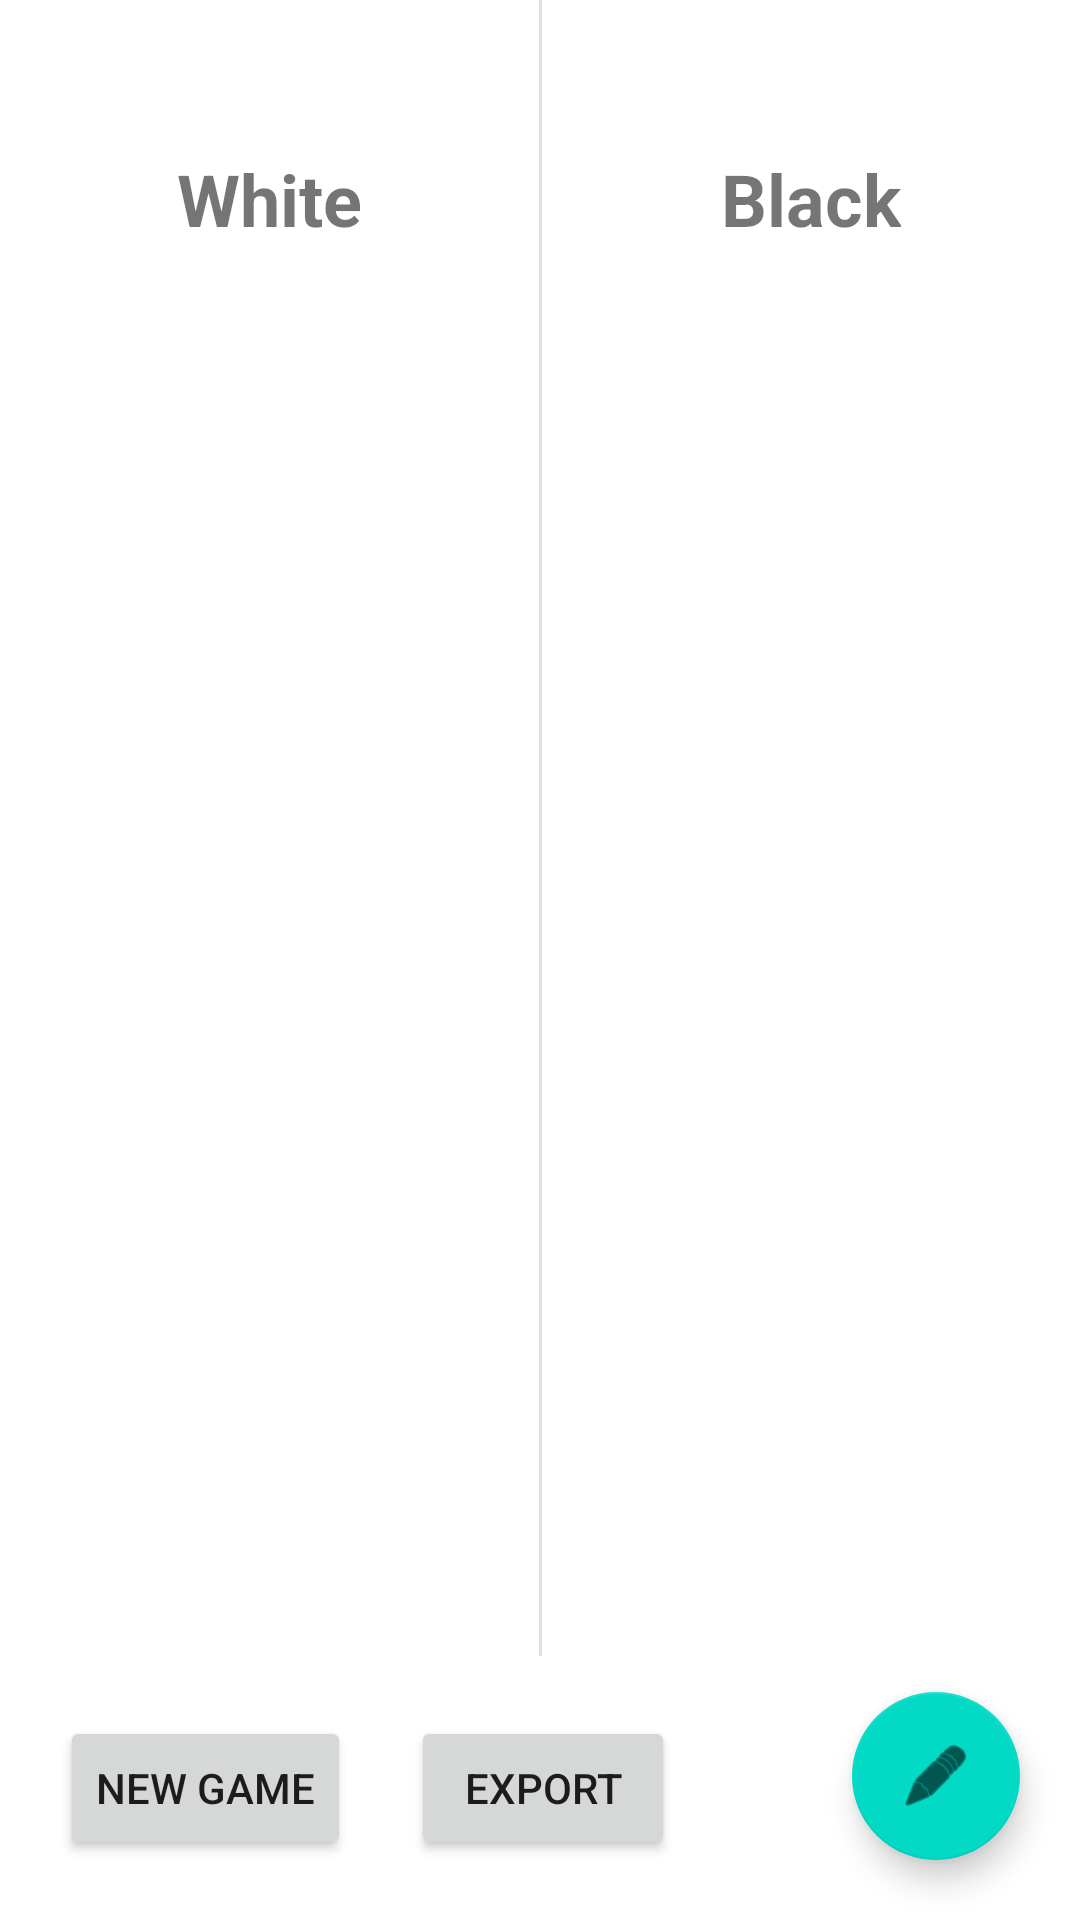

Locate icon controls on the screen. Image size 1080px×1920px, boxes as rect(x1, y1, x2, y2).
edit: rect(852, 1692, 1020, 1860)
